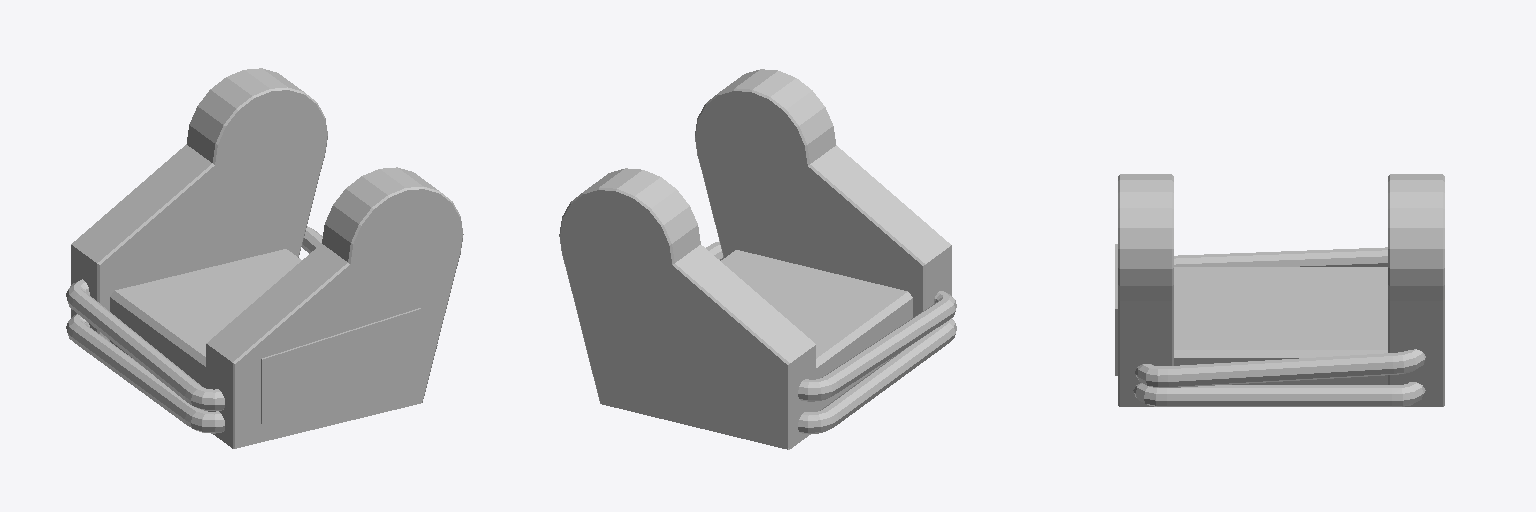
The model's file is flak_seat_base.obj.
The picture shows the model from 3 angles: view 1: azimuth 30°, elevation 25°; view 2: azimuth 150°, elevation 25°; view 3: azimuth 270°, elevation 25°; orthographic projection.
Parts seen in each view (by area): view 1: FlakCannon_Seat_LOD0.001; view 2: FlakCannon_Seat_LOD0.001; view 3: FlakCannon_Seat_LOD0.001.
Part boxes in pixels (left/top/right/bottom): FlakCannon_Seat_LOD0.001: left=66, top=68, right=463, bottom=448; FlakCannon_Seat_LOD0.001: left=559, top=69, right=956, bottom=449; FlakCannon_Seat_LOD0.001: left=1115, top=174, right=1444, bottom=406.
Bounding box in the file's own units: 3.27 × 2.69 × 3.66.